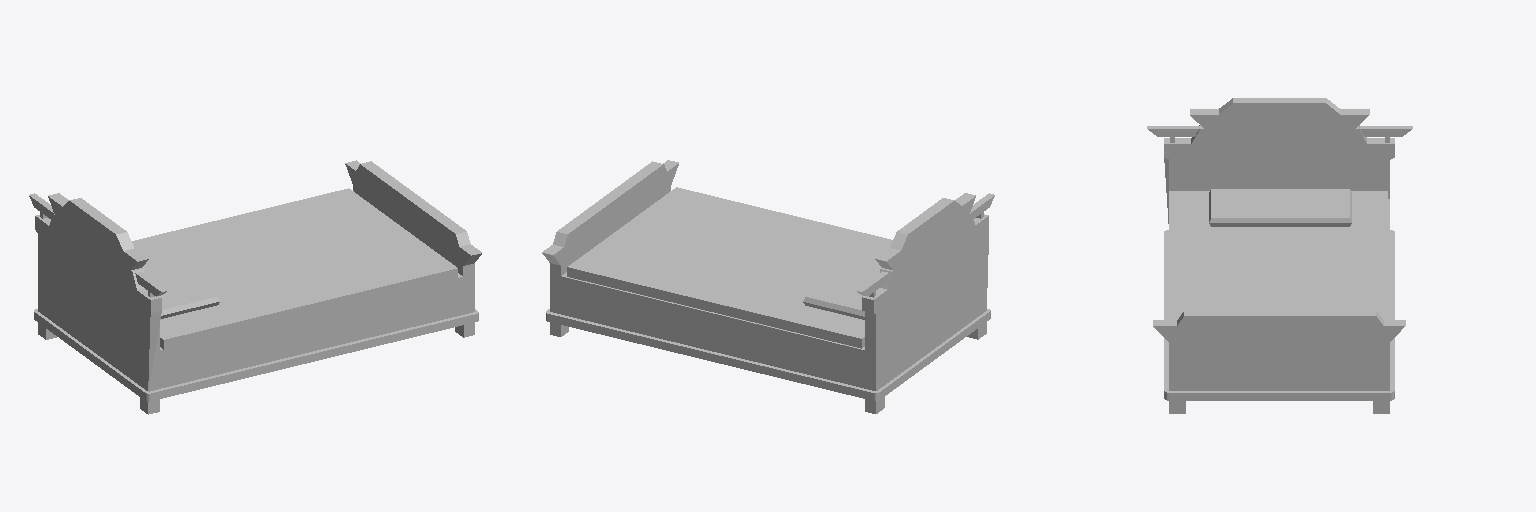
The model's file is Cama.obj.
3 views of the same model, side by side, from view 1: azimuth 30°, elevation 25°; view 2: azimuth 150°, elevation 25°; view 3: azimuth 270°, elevation 25° (orthographic).
Visible parts, largest first — view 1: Cama_Cube.016; view 2: Cama_Cube.016; view 3: Cama_Cube.016.
Boxes of the visible parts, x1,y1,x2,y2 form: Cama_Cube.016: [29, 160, 481, 414]; Cama_Cube.016: [542, 160, 994, 413]; Cama_Cube.016: [1147, 98, 1412, 413].
Bounding box in the file's own units: 3.2 × 1.44 × 2.21.